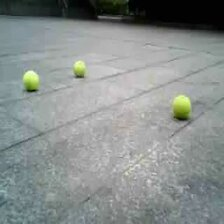tennis: (172, 95, 191, 117), (23, 71, 38, 89), (73, 60, 85, 75)
